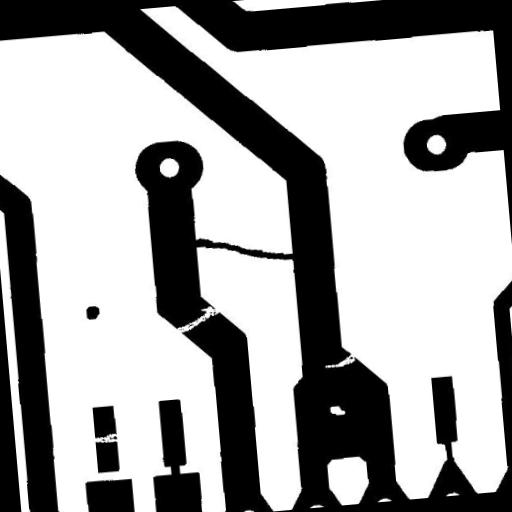copper: (78, 298, 108, 328)
mousebite: (316, 344, 365, 376)
open: (162, 297, 230, 342), (84, 425, 128, 452)
pin-hole: (322, 398, 353, 424)
short: (178, 222, 304, 276), (431, 430, 462, 470), (162, 454, 188, 484)
